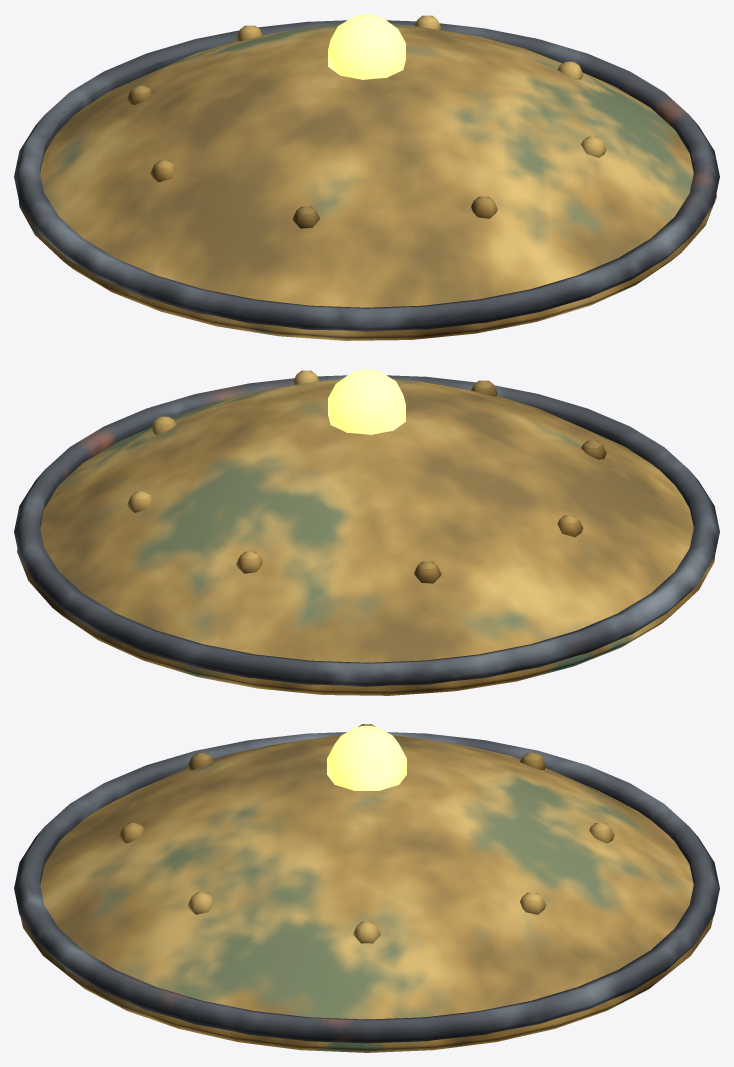
File: BellShield.fbx
3 renders of one model, top to bottom at view 1: azimuth 30°, elevation 25°; view 2: azimuth 150°, elevation 25°; view 3: azimuth 270°, elevation 25°, orthographic.
Parts seen in each view (by area): view 1: BellShield; view 2: BellShield; view 3: BellShield.
Boxes of the visible parts, x1,y1,x2,y2 form: BellShield: [14, 14, 719, 340]; BellShield: [14, 369, 719, 695]; BellShield: [14, 724, 719, 1052].
Bounding box in the file's own units: 0.604 × 0.2034 × 0.604.
